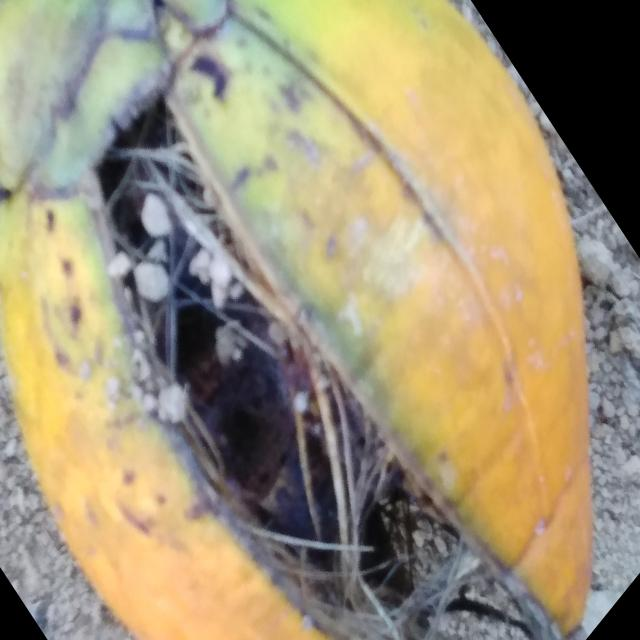damaged: (0, 0, 591, 640)
